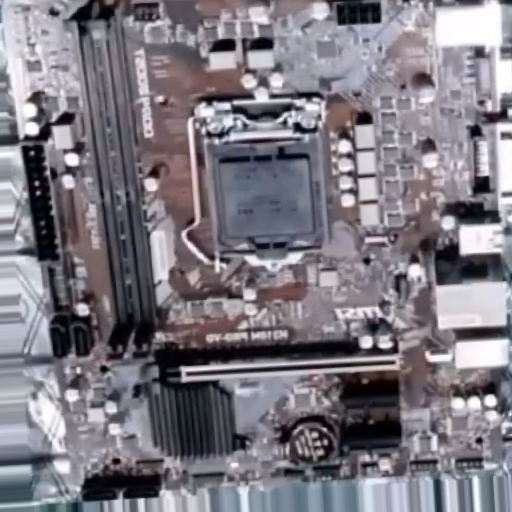CPU: (200, 95, 329, 274)
GPU: (142, 345, 402, 396)
MOTHERBOARD: (1, 1, 512, 499)
RAM: (65, 8, 162, 355)
